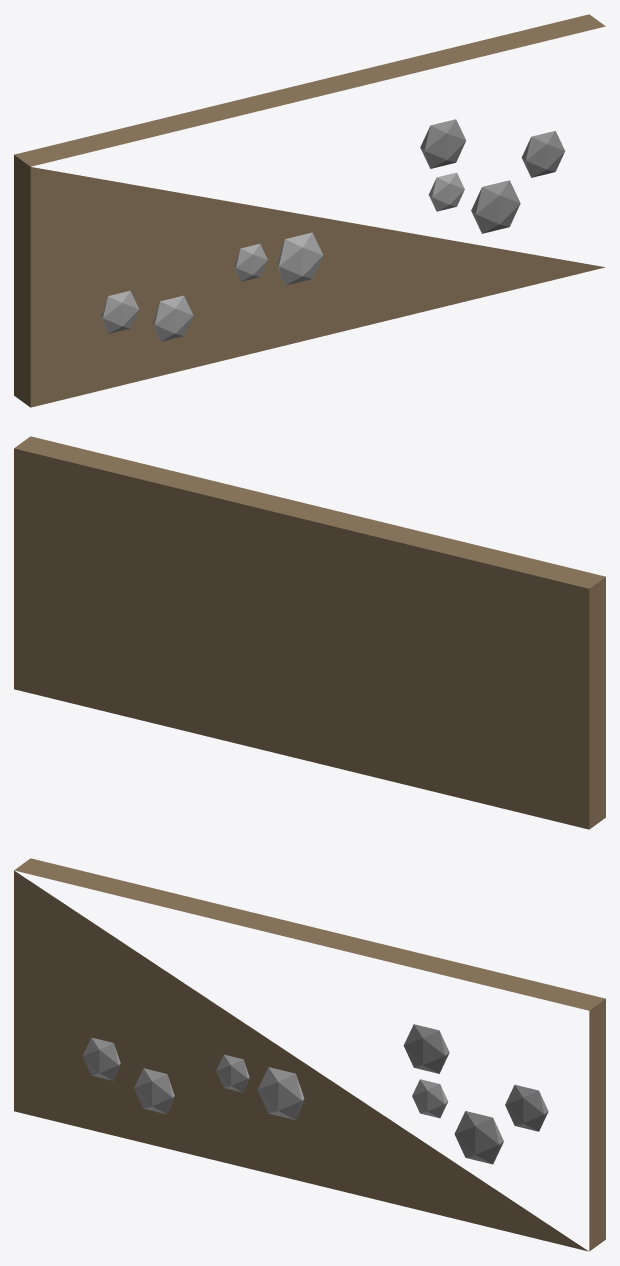
The model's file is stone_path.glb.
3 renders of one model, top to bottom at view 1: azimuth 30°, elevation 25°; view 2: azimuth 150°, elevation 25°; view 3: azimuth 330°, elevation 25°, orthographic.
Visible parts, largest first — view 1: geometry_0; view 2: geometry_0; view 3: geometry_0.
Boxes of the visible parts, bbox=[...] form: geometry_0: bbox=[14, 14, 605, 407]; geometry_0: bbox=[14, 436, 605, 829]; geometry_0: bbox=[14, 858, 605, 1251].
Size of the model in its own units: 1 by 0.4 by 0.0617.
